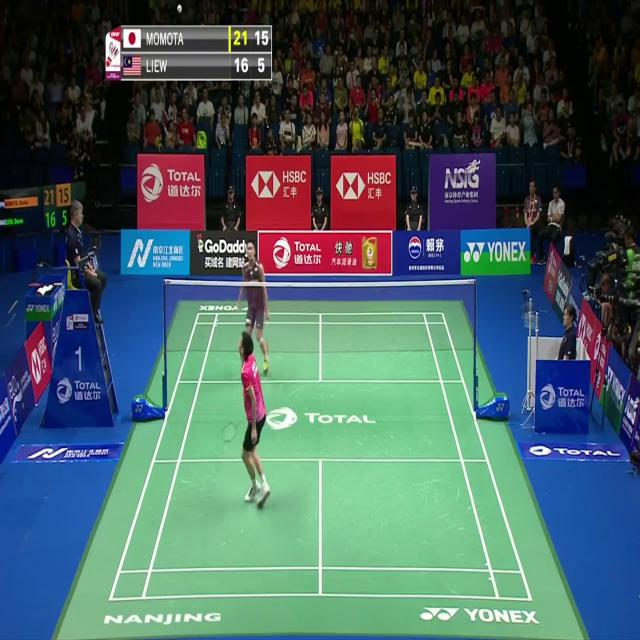Shuttlecock: (176, 2, 182, 14)
